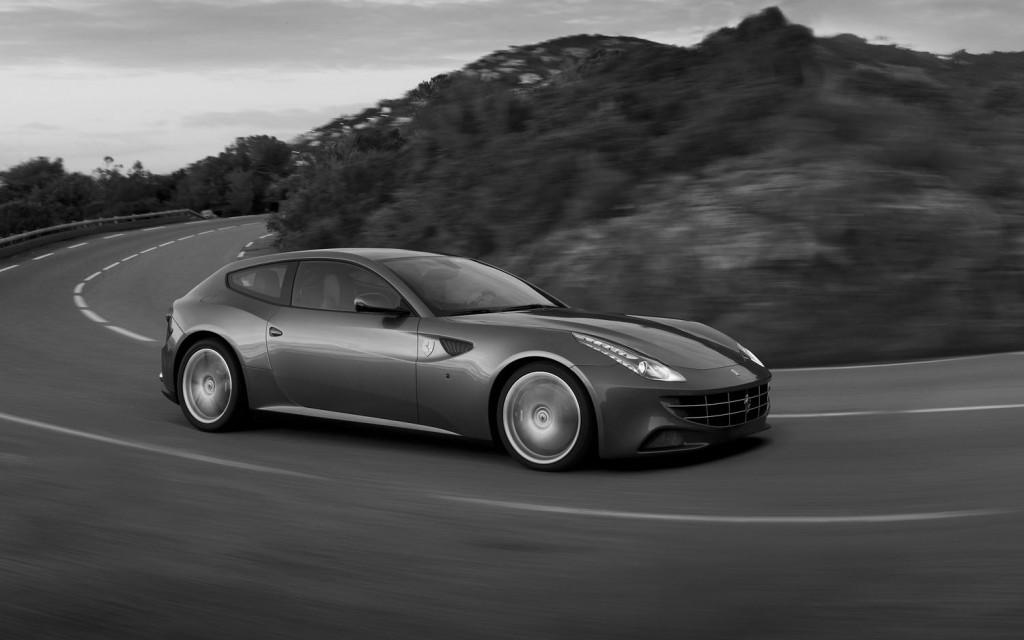car: (150, 239, 780, 479)
